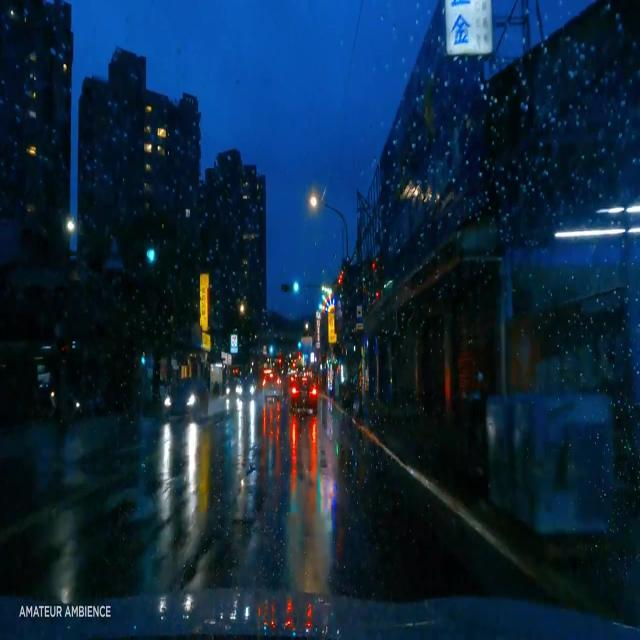Car: (165, 376, 207, 416), (292, 372, 315, 411), (261, 368, 282, 400)
